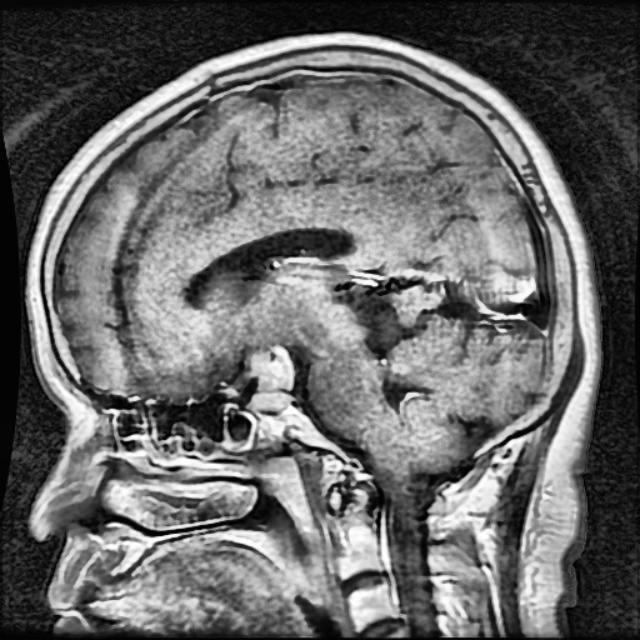Pituitary: (252, 347, 293, 410)
